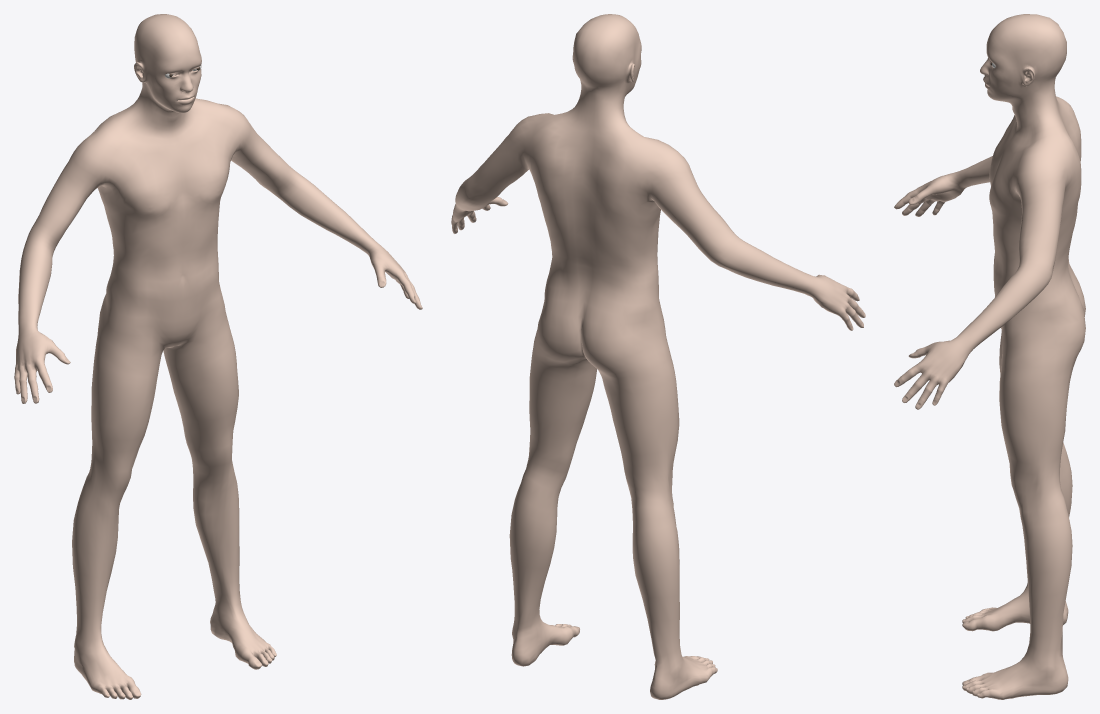
File: patient-male-adult.glb
3 views of the same model, side by side, from view 1: azimuth 30°, elevation 25°; view 2: azimuth 150°, elevation 25°; view 3: azimuth 270°, elevation 25° (orthographic).
Parts seen in each view (by area): view 1: Human_patient-male-adult; view 2: Human_patient-male-adult; view 3: Human_patient-male-adult.
Part boxes in pixels (x1=…): Human_patient-male-adult: x1=14, y1=14, x2=422, y2=699; Human_patient-male-adult: x1=451, y1=14, x2=865, y2=699; Human_patient-male-adult: x1=894, y1=14, x2=1085, y2=699.
Bounding box in the file's own units: 1.23 × 1.89 × 0.5121.
